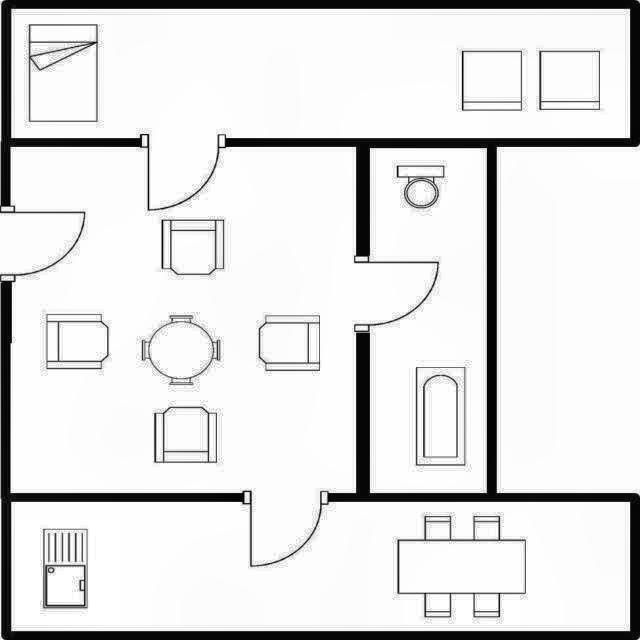room: (10, 147, 356, 493), (11, 9, 630, 138), (11, 502, 630, 631), (370, 148, 487, 493)
